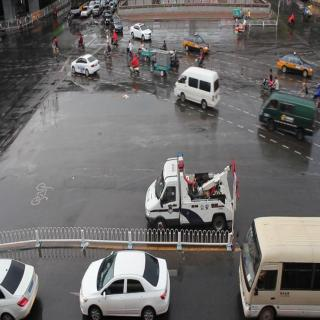BigCar: (238, 207, 320, 319)
Car: (142, 155, 235, 231), (80, 248, 175, 320), (252, 94, 319, 136), (173, 64, 224, 116), (71, 48, 96, 86), (129, 17, 151, 42)
